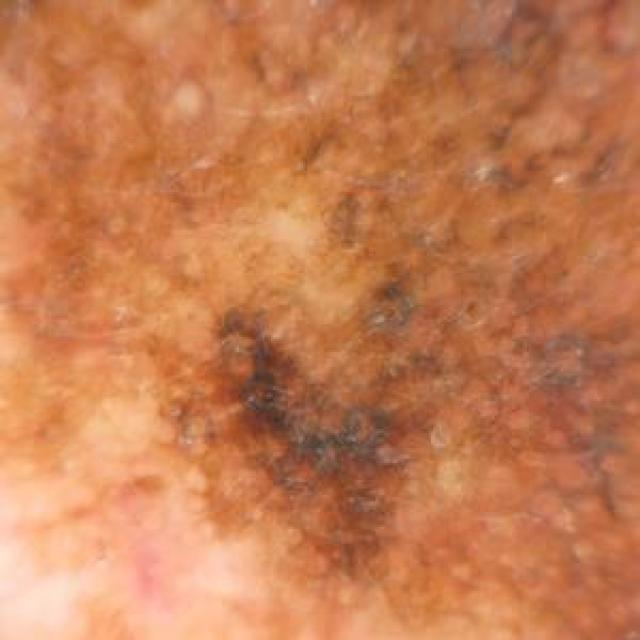Cancer: (172, 278, 612, 586)
